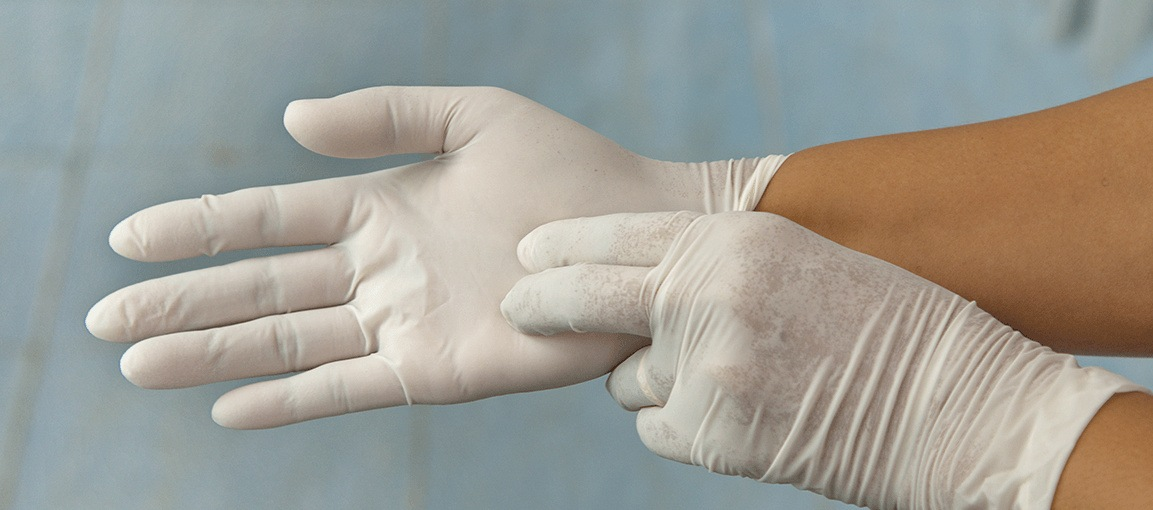Gloves: (72, 81, 697, 433), (497, 207, 1067, 503)
